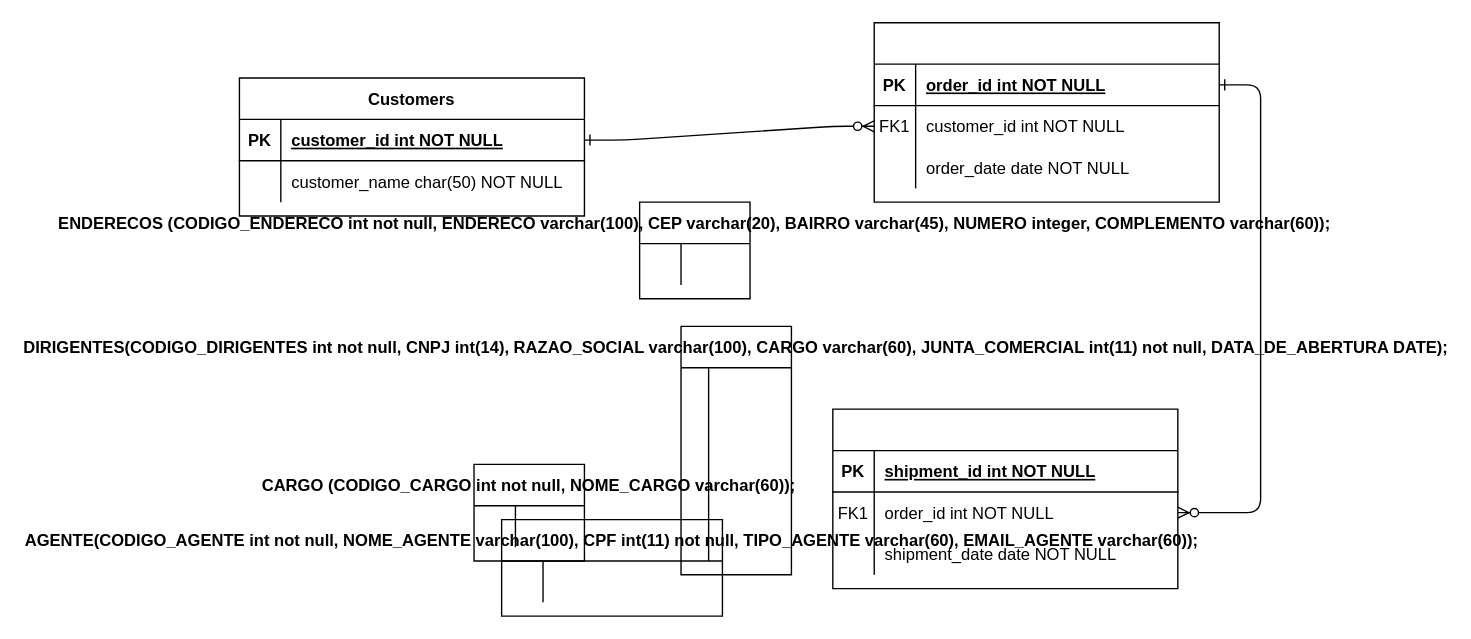
Some shapes in this 1471 by 639 pixel diagram are drawn without their labels. The shapes that lost their labels are listed below. From the top down, each one's box as (x1, y1, x2, y2) in pixels, then its label:
(873, 21, 1219, 202): Orders
(831, 408, 1178, 589): Shipments
